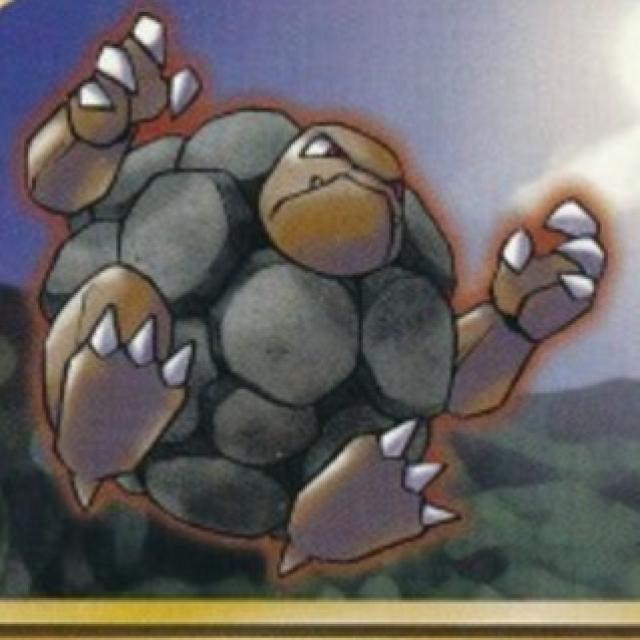Golem: (28, 76, 498, 549)
